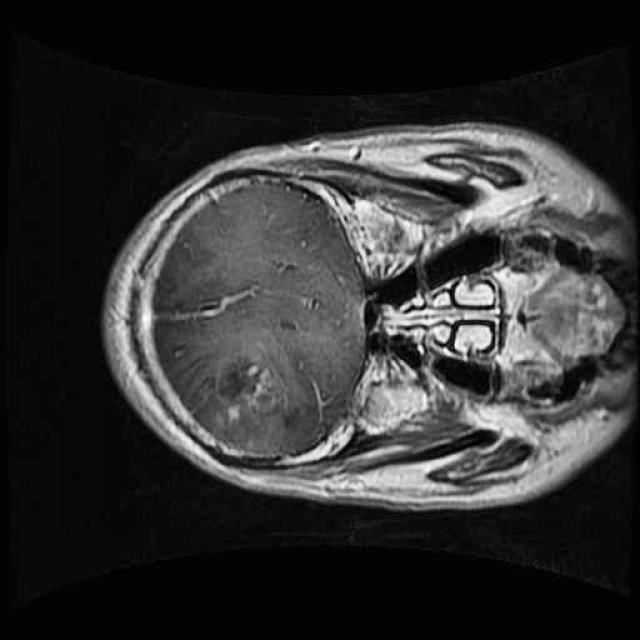Non-Tumor: (208, 350, 294, 438)
